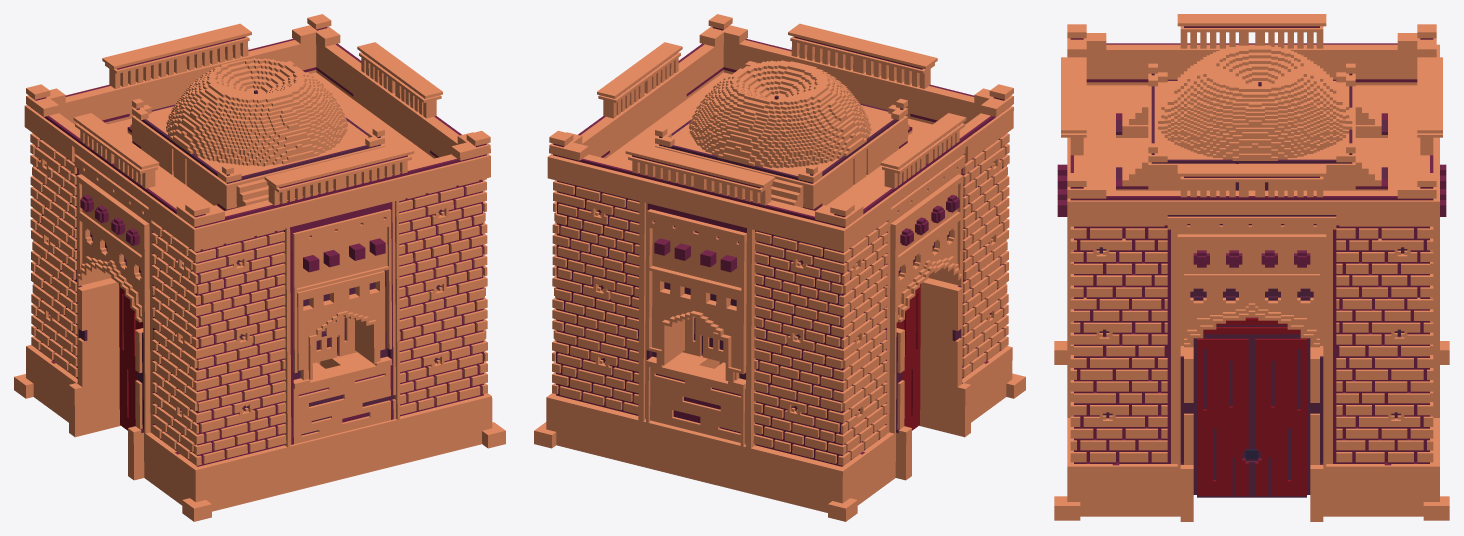
File: Unity2Skfb.gltf
3 views of the same model, side by side, from view 1: azimuth 30°, elevation 25°; view 2: azimuth 150°, elevation 25°; view 3: azimuth 270°, elevation 25° (orthographic). The views are drawn at different scales.
Visible parts, largest first — view 1: node_anciant_arabic_building_-2304; view 2: node_anciant_arabic_building_-2304; view 3: node_anciant_arabic_building_-2304.
Boxes of the visible parts, bbox=[...] form: node_anciant_arabic_building_-2304: bbox=[14, 14, 505, 521]; node_anciant_arabic_building_-2304: bbox=[534, 14, 1025, 521]; node_anciant_arabic_building_-2304: bbox=[1054, 14, 1449, 521].
Bounding box in the file's own units: 124 × 126 × 122.
1 material, 1 textured.
